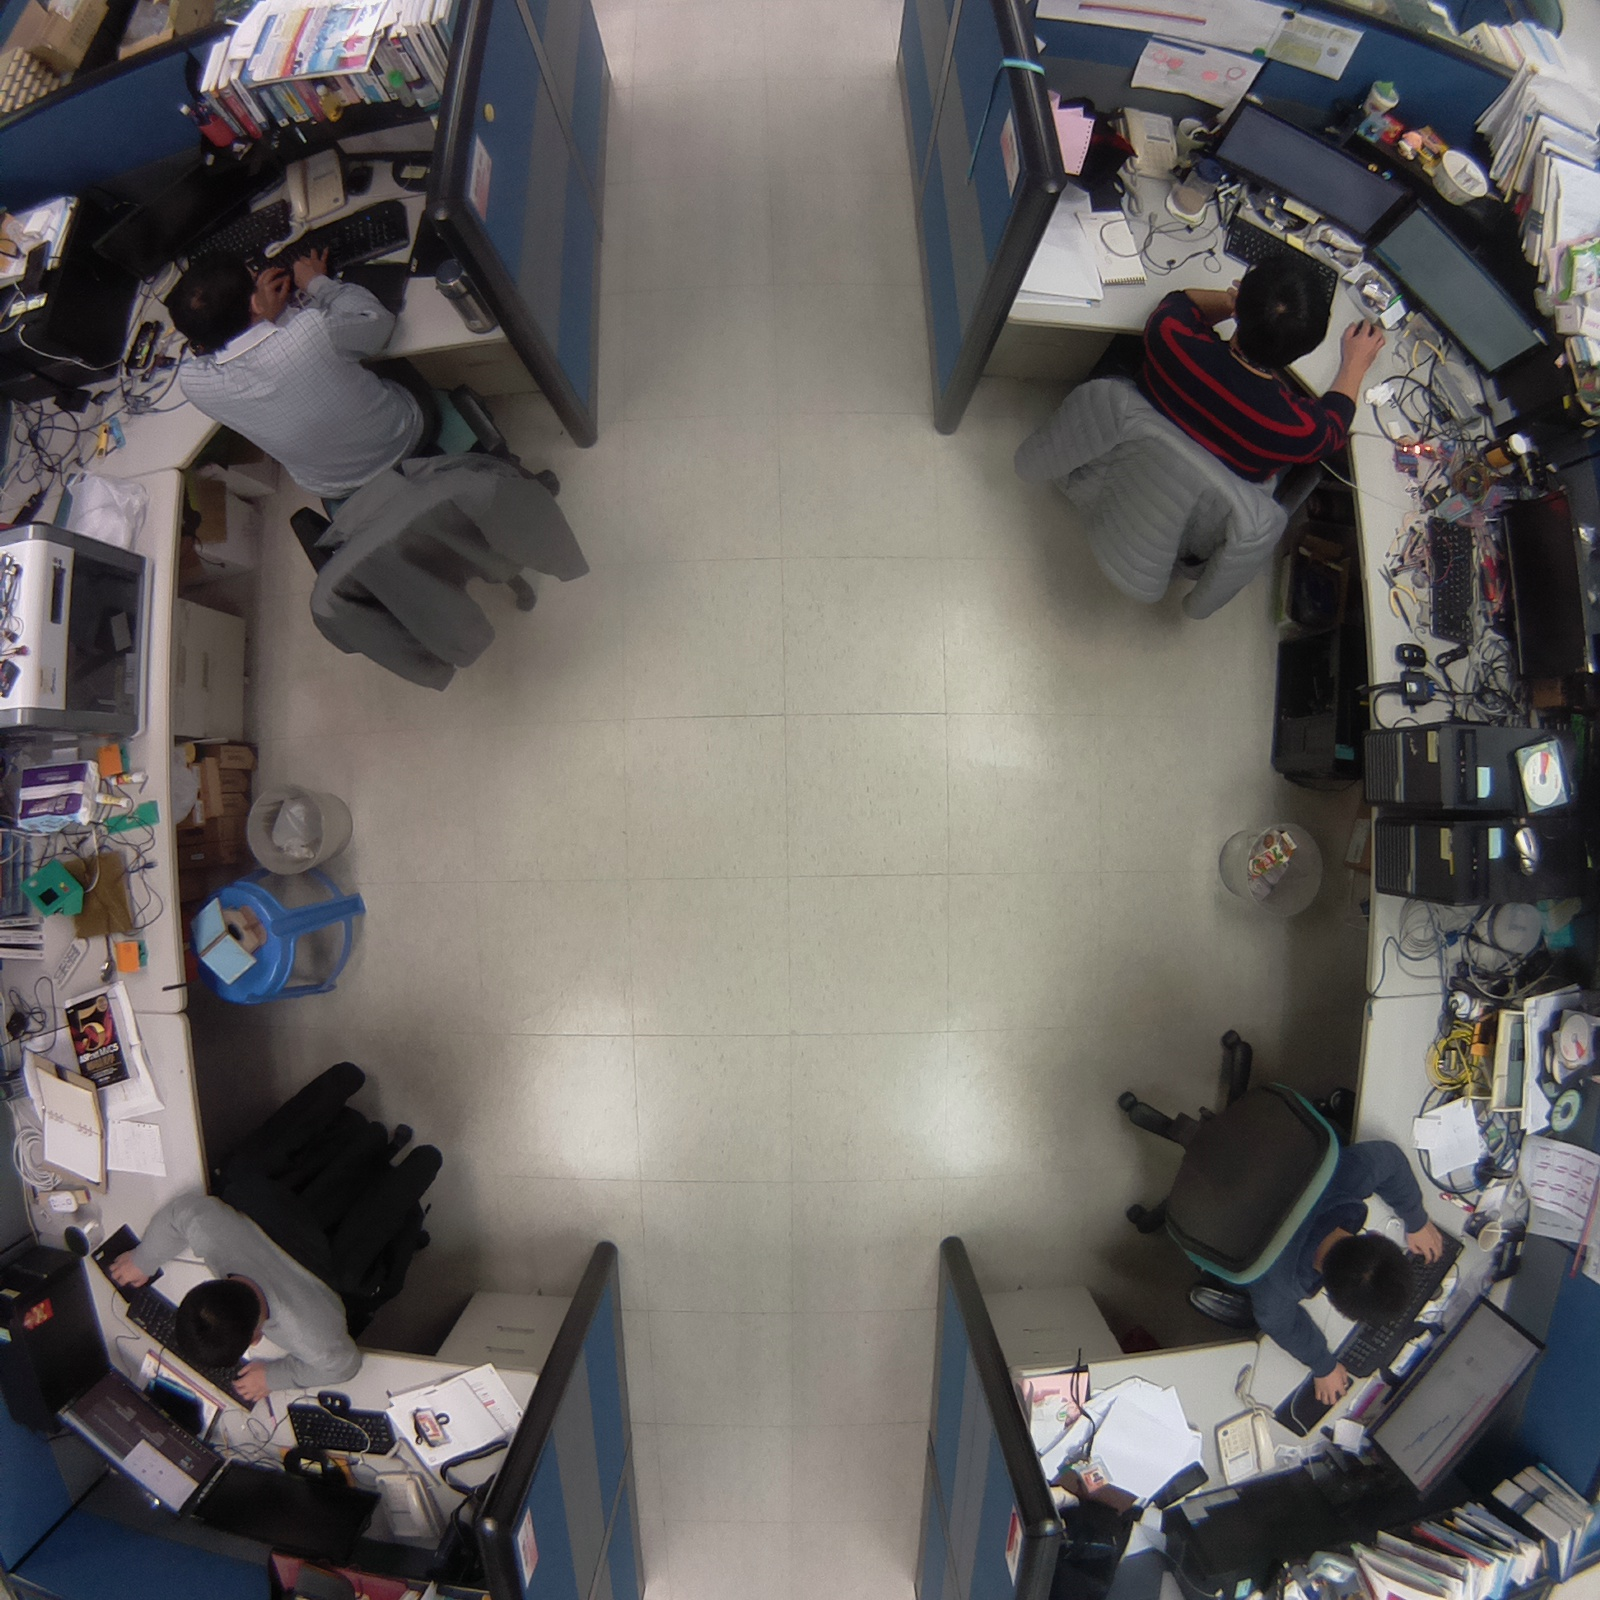head: (1221, 257, 1338, 365), (163, 1272, 280, 1376), (161, 242, 263, 357), (1312, 1217, 1415, 1327)
sitting: (145, 232, 599, 709), (1001, 250, 1396, 637), (1083, 1019, 1447, 1419), (101, 1042, 450, 1409)
